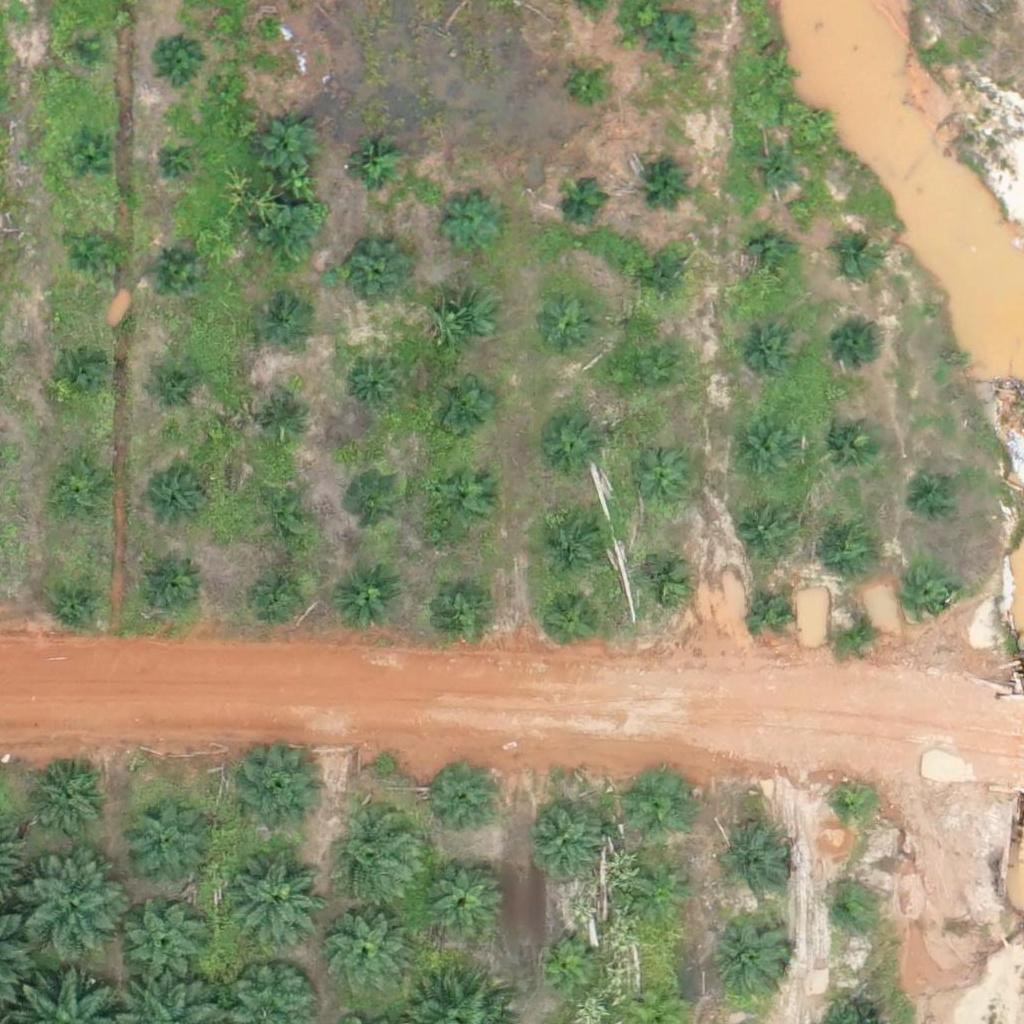Kelapa_Sawit: (18, 849, 131, 962), (328, 809, 428, 909), (223, 842, 323, 942), (237, 743, 325, 831), (118, 899, 206, 987), (326, 909, 413, 998), (525, 798, 612, 886), (420, 855, 507, 943), (117, 799, 204, 887), (715, 820, 790, 896), (425, 765, 500, 841), (715, 917, 790, 993), (31, 764, 106, 839), (619, 347, 682, 410), (734, 323, 797, 386), (342, 140, 405, 203), (346, 240, 409, 303), (333, 567, 396, 630), (732, 420, 795, 483), (142, 550, 205, 613), (53, 457, 116, 520), (43, 568, 106, 631), (429, 465, 492, 528), (427, 572, 490, 635), (343, 472, 406, 535), (539, 589, 602, 652), (628, 770, 691, 833), (819, 516, 882, 579), (733, 501, 796, 564), (256, 116, 319, 179), (49, 347, 112, 409), (430, 379, 492, 442), (541, 294, 603, 357), (440, 192, 502, 255), (543, 511, 605, 574), (255, 485, 317, 548), (540, 415, 602, 478), (634, 866, 696, 929), (629, 453, 691, 516), (634, 551, 696, 614), (819, 411, 881, 474), (258, 205, 320, 268), (436, 292, 498, 355), (250, 567, 312, 629), (533, 932, 595, 994), (146, 472, 208, 534), (746, 586, 796, 637), (832, 607, 882, 658), (153, 35, 203, 86), (153, 373, 203, 423), (255, 305, 305, 355), (263, 398, 313, 448), (346, 361, 396, 411), (149, 245, 199, 295), (835, 322, 885, 372), (642, 153, 692, 203), (560, 178, 610, 228), (67, 225, 117, 275), (749, 148, 799, 198), (648, 17, 698, 67), (745, 233, 795, 283), (831, 232, 881, 282), (903, 573, 953, 623), (913, 468, 963, 518), (825, 781, 875, 831), (821, 888, 871, 938), (639, 257, 689, 307), (153, 137, 203, 187), (66, 133, 116, 183), (757, 55, 795, 93), (569, 66, 607, 104), (64, 32, 102, 70)
